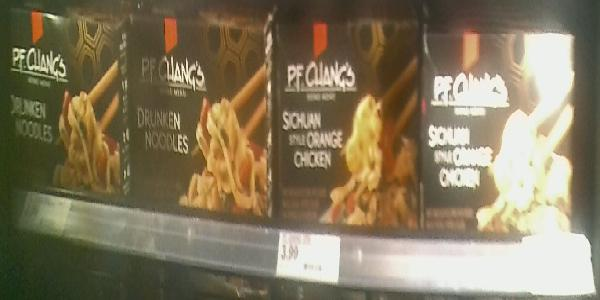pizza1: (128, 3, 271, 222), (273, 17, 422, 227), (421, 35, 575, 236), (1, 1, 131, 199)
